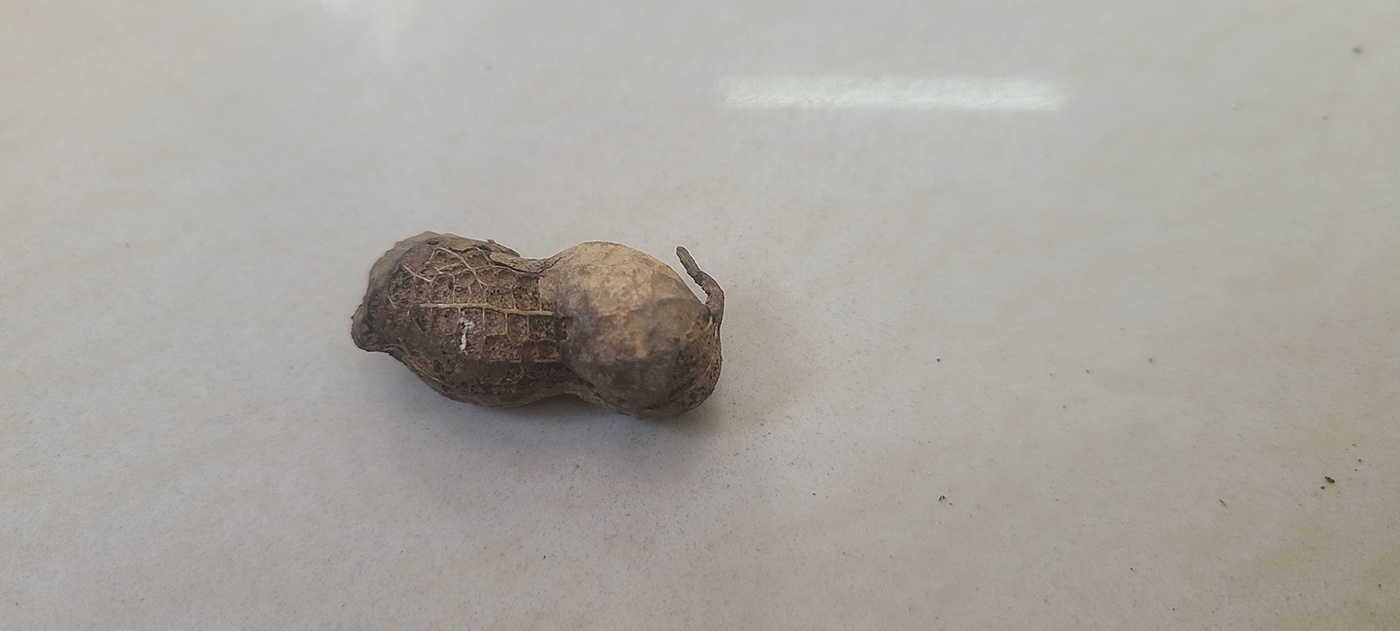l: (352, 228, 726, 423)
